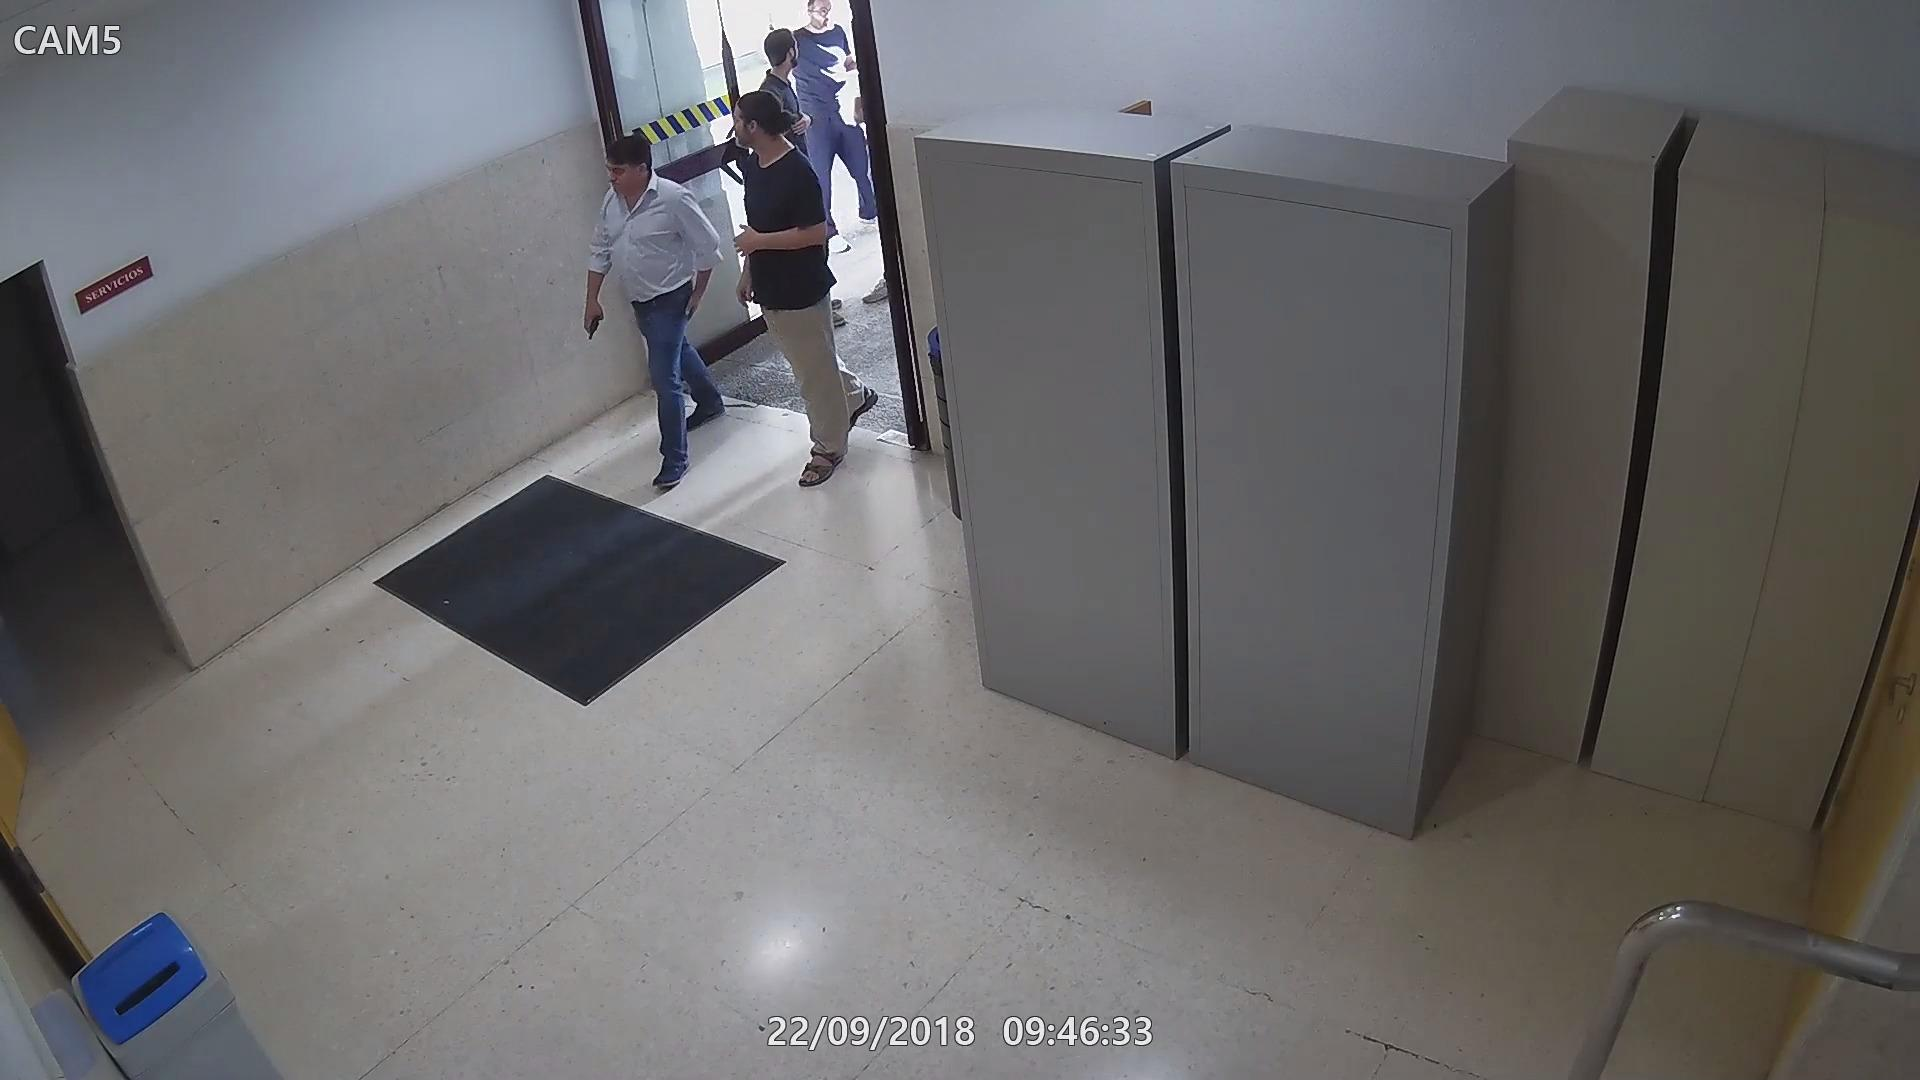Handgun: (579, 302, 605, 342)
